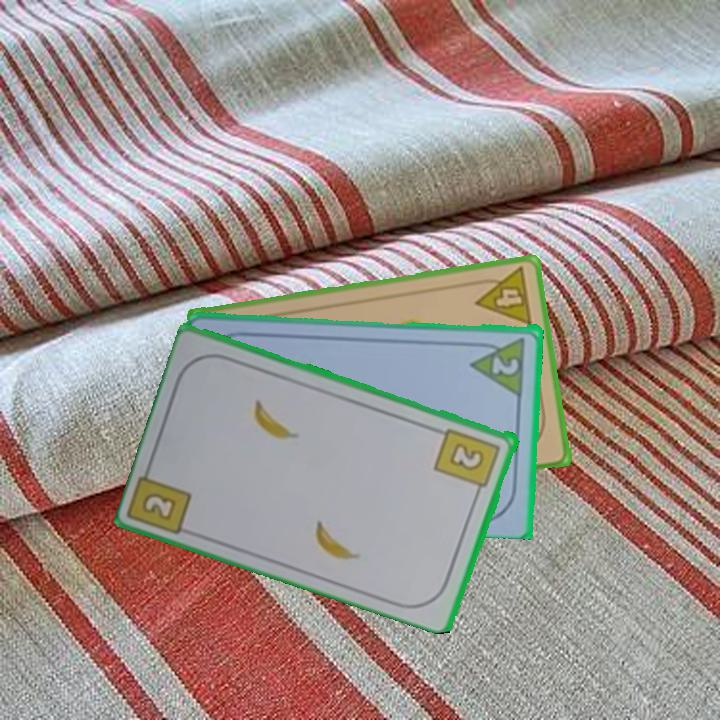2b: (432, 424, 504, 498), (139, 488, 180, 524)
2p: (468, 333, 528, 397)
4p: (469, 264, 535, 329)
